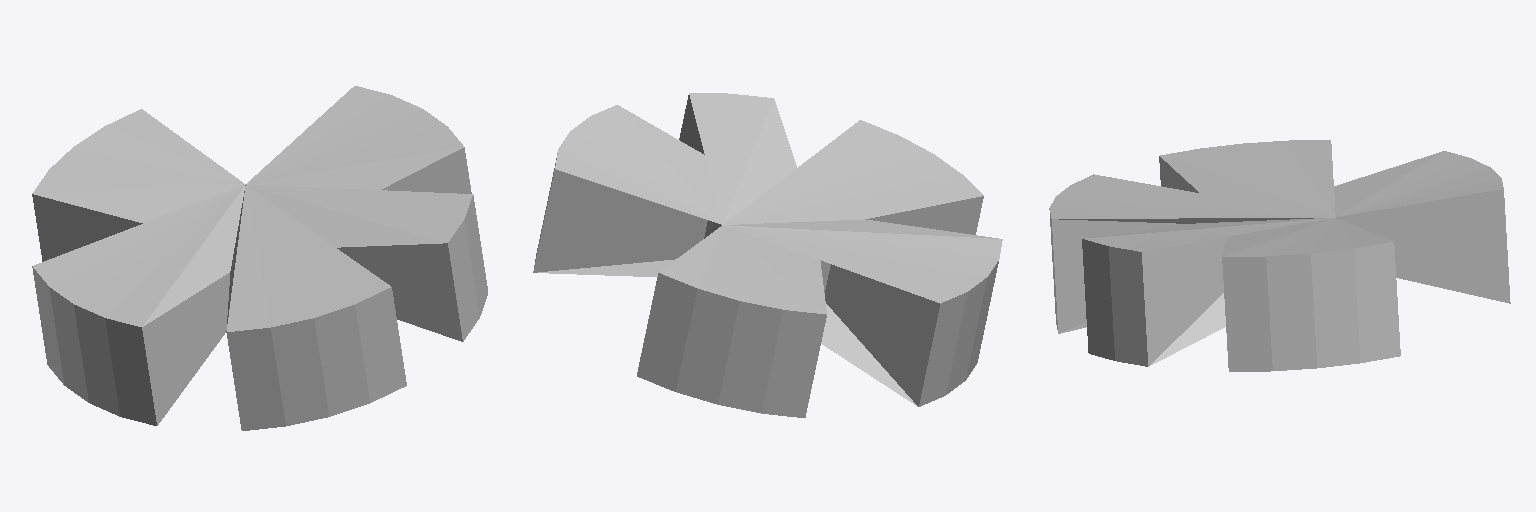
The model's file is flowerrr.obj.
3 renders of one model, left to right at view 1: azimuth 30°, elevation 25°; view 2: azimuth 150°, elevation 25°; view 3: azimuth 270°, elevation 25°, orthographic.
Parts seen in each view (by area): view 1: Icosphere.001; view 2: Icosphere.001; view 3: Icosphere.001.
Boxes of the visible parts, x1,y1,x2,y2 form: Icosphere.001: [32, 86, 487, 430]; Icosphere.001: [533, 93, 1002, 417]; Icosphere.001: [1049, 140, 1510, 371].
Bounding box in the file's own units: 0.62 × 0.2675 × 0.6091.